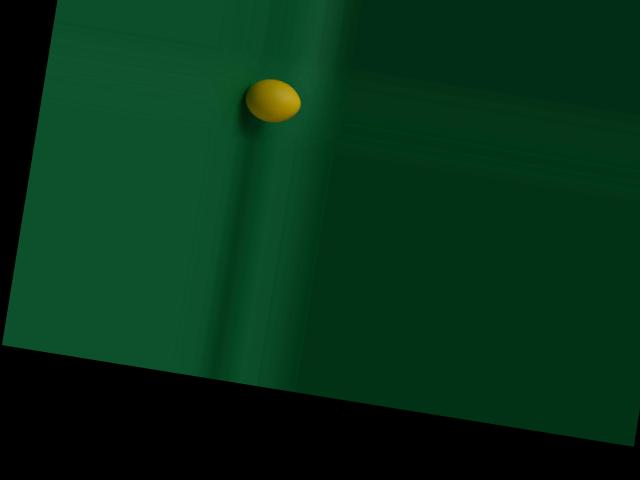egg: (242, 74, 304, 124)
